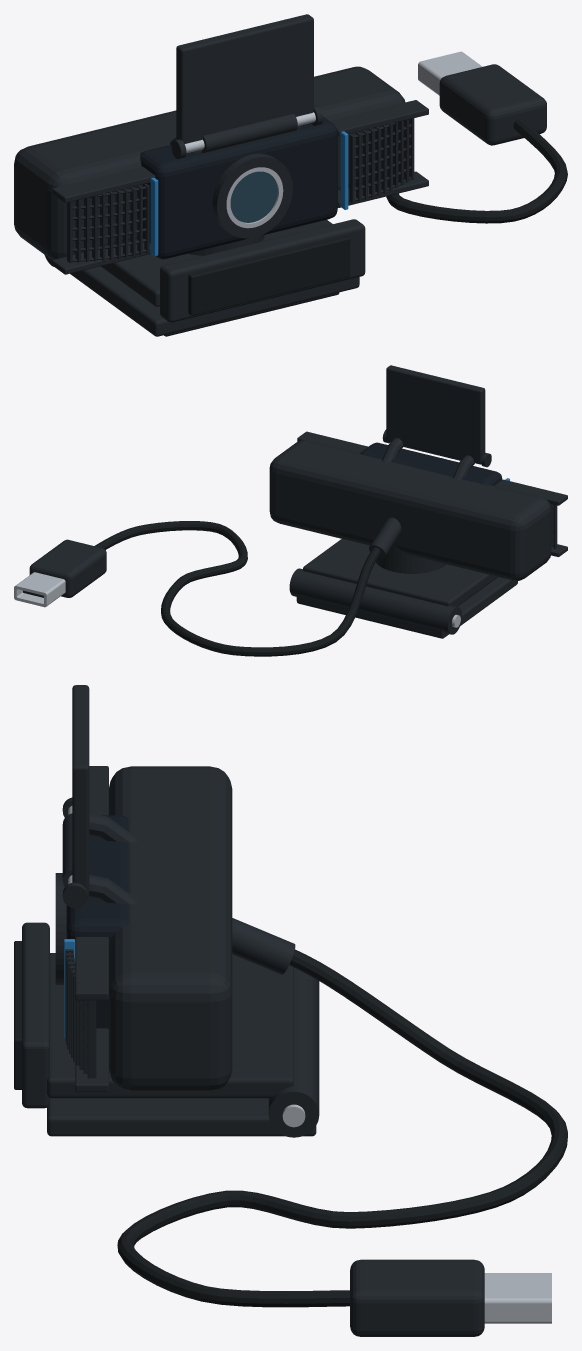
The model's file is full.glb.
3 views of the same model, one above another, from view 1: azimuth 30°, elevation 25°; view 2: azimuth 150°, elevation 25°; view 3: azimuth 270°, elevation 25° (orthographic). The views are drawn at different scales.
Visible parts, largest first — view 1: Closed rear camera shell, Raised privacy cover, Central glossy face, Front lip rubber, USB A molded end, Short front monitor lip, Lower folding clip plate, Complete generic USB cable, Recessed lens concentric rim, Upper clip plate, Closed lens glass, Grille upper rail -1 (+11 smaller); view 2: Closed rear camera shell, Raised privacy cover, Complete generic USB cable, Upper clip plate, Folded clip rear hinge, USB A molded end, Lower folding clip plate, Central glossy face, USB A hollow metal shell, Generic camera clip mount, Rear generic strain relief, Grille upper rail -1 (+1 smaller); view 3: Closed rear camera shell, Complete generic USB cable, Upper clip plate, USB A molded end, Lower folding clip plate, Short front monitor lip, Folded clip rear hinge, Central glossy face, Raised privacy cover, USB A hollow metal shell, Rear generic strain relief, Grille upper rail 1 (+6 smaller).
Boxes of the visible parts, x1=… form: Closed rear camera shell: x1=14, y1=66, x2=405, y2=259; Raised privacy cover: x1=176, y1=14, x2=313, y2=143; Central glossy face: x1=140, y1=116, x2=337, y2=259; Front lip rubber: x1=188, y1=236, x2=350, y2=315; USB A molded end: x1=439, y1=64, x2=546, y2=145; Short front monitor lip: x1=160, y1=219, x2=365, y2=322; Lower folding clip plate: x1=70, y1=266, x2=359, y2=336; Complete generic USB cable: x1=386, y1=118, x2=567, y2=223; Recessed lens concentric rim: x1=212, y1=153, x2=292, y2=238; Upper clip plate: x1=101, y1=220, x2=332, y2=306; Closed lens glass: x1=230, y1=171, x2=277, y2=222; Grille upper rail -1: x1=52, y1=166, x2=155, y2=203; Closed rear camera shell: x1=269, y1=440, x2=551, y2=580; Raised privacy cover: x1=386, y1=365, x2=485, y2=464; Complete generic USB cable: x1=94, y1=521, x2=380, y2=656; Upper clip plate: x1=303, y1=539, x2=497, y2=606; Folded clip rear hinge: x1=289, y1=568, x2=461, y2=634; USB A molded end: x1=29, y1=539, x2=106, y2=597; Lower folding clip plate: x1=296, y1=577, x2=517, y2=638; Central glossy face: x1=360, y1=442, x2=502, y2=485; USB A hollow metal shell: x1=14, y1=572, x2=65, y2=607; Generic camera clip mount: x1=376, y1=544, x2=446, y2=573; Rear generic strain relief: x1=369, y1=517, x2=401, y2=558; Grille upper rail -1: x1=494, y1=479, x2=567, y2=505; Closed rear camera shell: x1=109, y1=766, x2=232, y2=1091; Complete generic USB cable: x1=117, y1=949, x2=567, y2=1307; Upper clip plate: x1=47, y1=953, x2=293, y2=1098; USB A molded end: x1=350, y1=1259, x2=484, y2=1336; Lower folding clip plate: x1=47, y1=1098, x2=316, y2=1136; Short front monitor lip: x1=22, y1=922, x2=49, y2=1108; Folded clip rear hinge: x1=268, y1=967, x2=319, y2=1137; Central glossy face: x1=66, y1=815, x2=128, y2=1029; Raised privacy cover: x1=72, y1=685, x2=89, y2=897; USB A hollow metal shell: x1=484, y1=1273, x2=551, y2=1323; Rear generic strain relief: x1=232, y1=918, x2=295, y2=974; Grille upper rail 1: x1=75, y1=937, x2=108, y2=1000.
Bounding box in the file's own units: 0.156 × 0.0705 × 0.0987.
